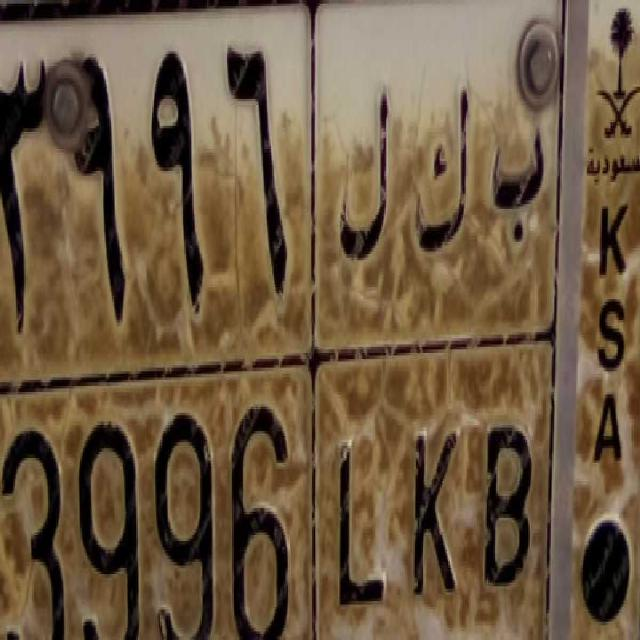license_plate: (0, 376, 548, 640)
